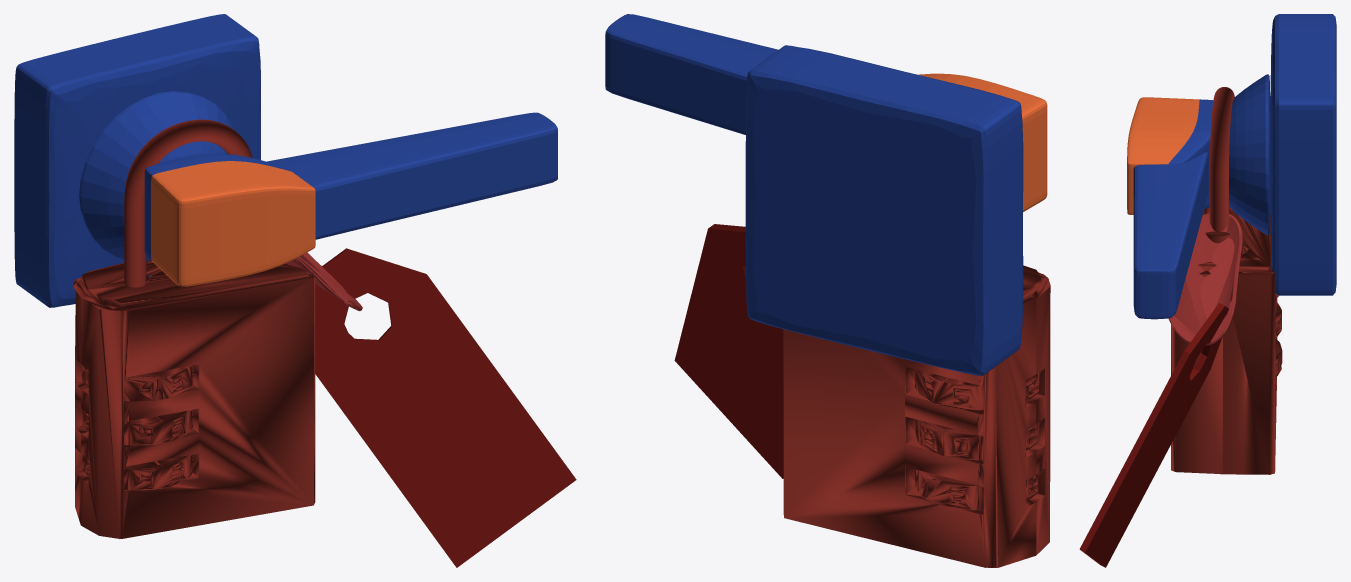
The model's file is lever-with-padlockblend.fbx.
3 views of the same model, side by side, from view 1: azimuth 30°, elevation 25°; view 2: azimuth 150°, elevation 25°; view 3: azimuth 270°, elevation 25° (orthographic). The views are drawn at different scales.
Visible parts, largest first — view 1: 16882_luggage_lock.001, Hand-switch; view 2: Hand-switch, 16882_luggage_lock.001; view 3: Hand-switch, 16882_luggage_lock.001.
Boxes of the visible parts, x1=… form: 16882_luggage_lock.001: x1=73, y1=119, x2=576, y2=567; Hand-switch: x1=14, y1=14, x2=557, y2=307; Hand-switch: x1=605, y1=14, x2=1047, y2=375; 16882_luggage_lock.001: x1=674, y1=224, x2=1050, y2=567; Hand-switch: x1=1127, y1=14, x2=1336, y2=319; 16882_luggage_lock.001: x1=1079, y1=87, x2=1282, y2=567.
Size of the model in its own units: 64.14 by 68.6 by 37.66.
